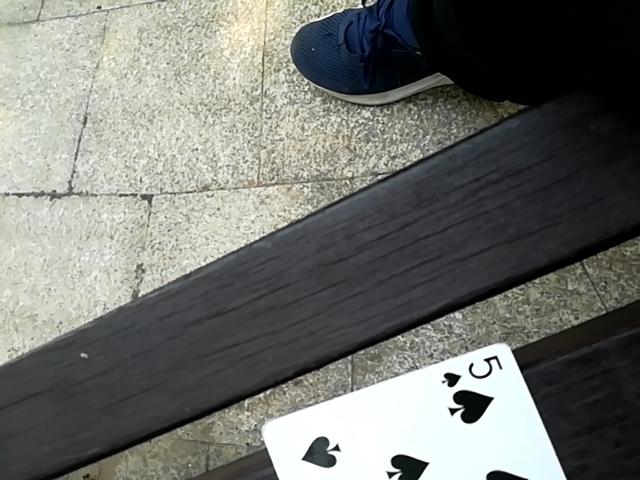ht 5: (257, 339, 601, 480)
